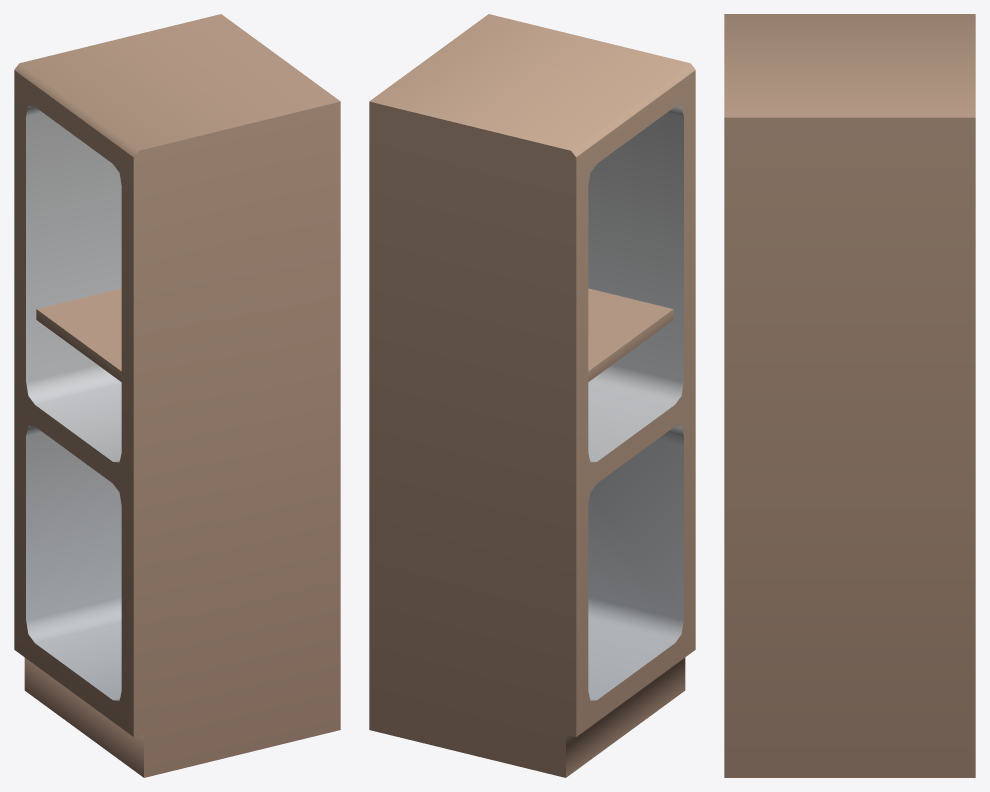
Rendered from cabinet-basic-high-divider.glb.
3 views of the same model, side by side, from view 1: azimuth 30°, elevation 25°; view 2: azimuth 150°, elevation 25°; view 3: azimuth 270°, elevation 25° (orthographic). The views are drawn at different scales.
Parts seen in each view (by area): view 1: cabinet-basic-high-divider; view 2: cabinet-basic-high-divider; view 3: cabinet-basic-high-divider.
Boxes of the visible parts, <box> form: cabinet-basic-high-divider: <box>14,14,340,777</box>; cabinet-basic-high-divider: <box>369,14,695,777</box>; cabinet-basic-high-divider: <box>724,14,975,777</box>.
Bounding box in the file's own units: 0.5 × 1.45 × 0.5.
